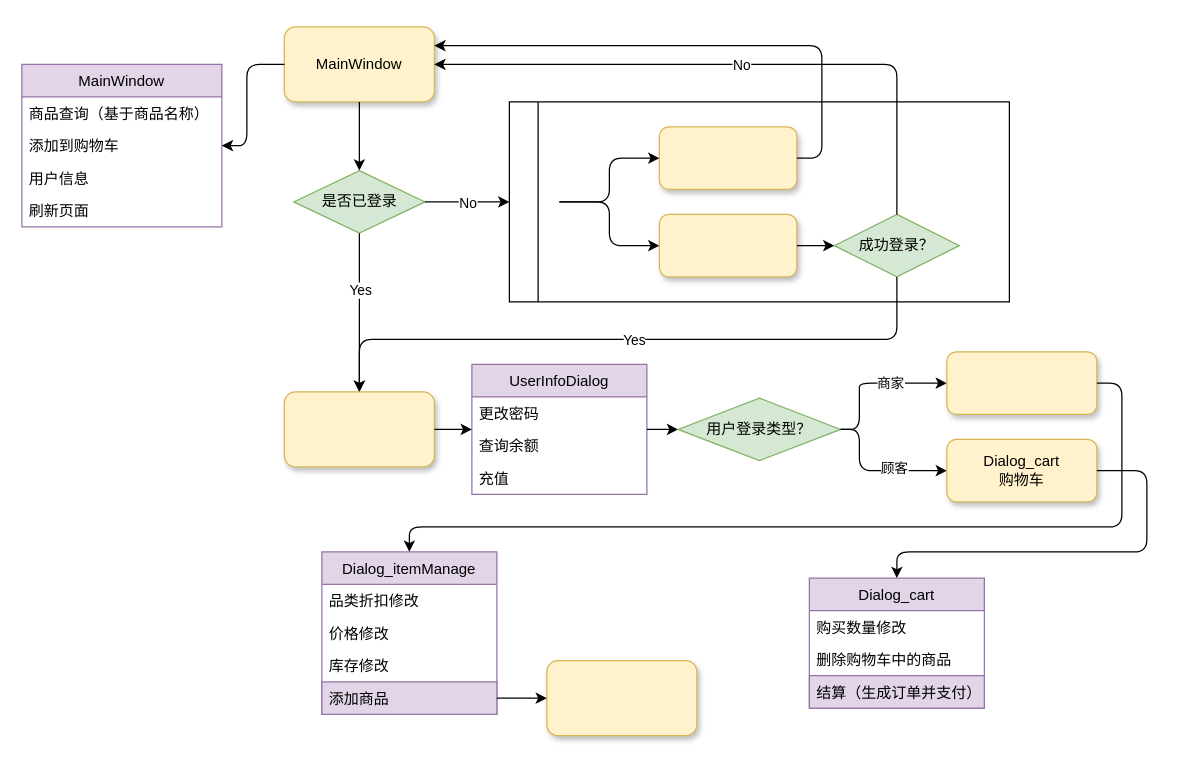
Image size: 1179x766. Some labels were removed from this diagram. Each missing label, with the centre of its shape:
Dialog_addItems 添加商品页面: pixel 622 699
Dialog_itemManage 管理商品: pixel 1022 384
dialog_join 用户注册页面: pixel 728 159
dialog_login 用户登录页面: pixel 728 247
激活UserInfoDialog: pixel 360 431
